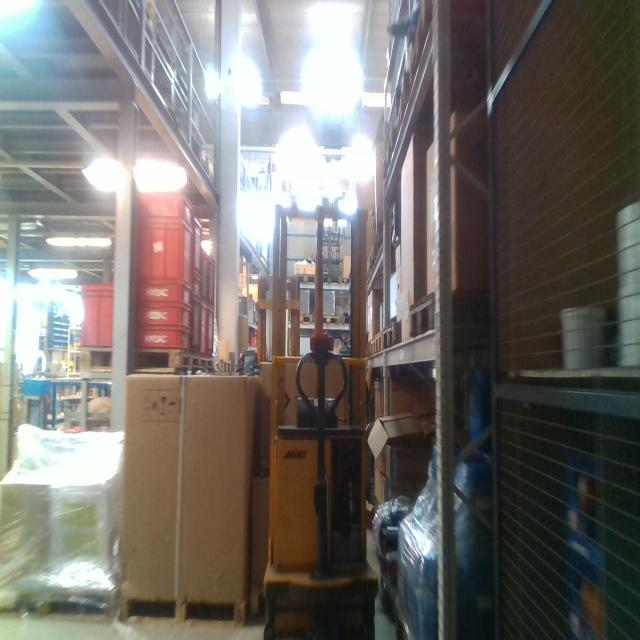pallet: (0, 583, 120, 622), (121, 594, 249, 629), (410, 288, 492, 340), (80, 345, 200, 375), (409, 0, 434, 89), (381, 124, 396, 179), (398, 69, 407, 134), (368, 239, 378, 274), (383, 320, 393, 351), (295, 272, 318, 285), (200, 352, 214, 372), (321, 313, 341, 325), (321, 275, 343, 285), (221, 358, 233, 375), (298, 312, 314, 324), (376, 332, 384, 355), (370, 337, 377, 356), (342, 313, 352, 326)
pallet_truck: (270, 196, 377, 637)
